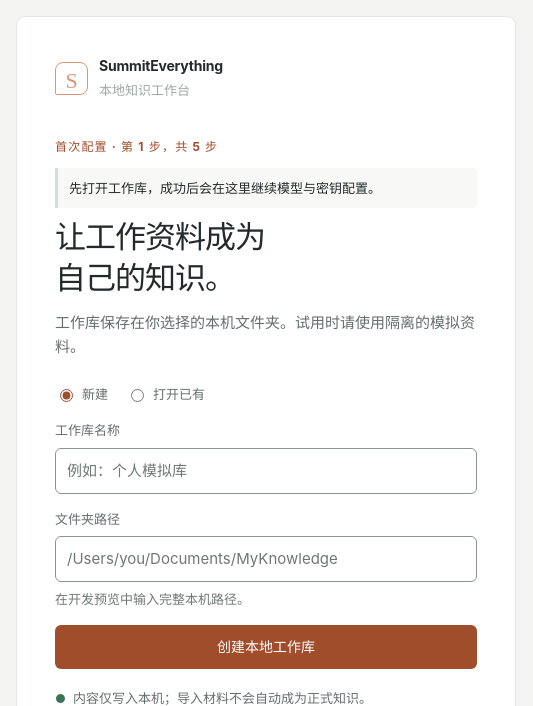
Test: keeps the setup form visible and explains a rejected workspace
This screenshot has width=533, height=706.
Type "模拟工作库" into the field labelled "工作库名称" at (266, 471), box x1=55 y1=448 x2=477 y2=494
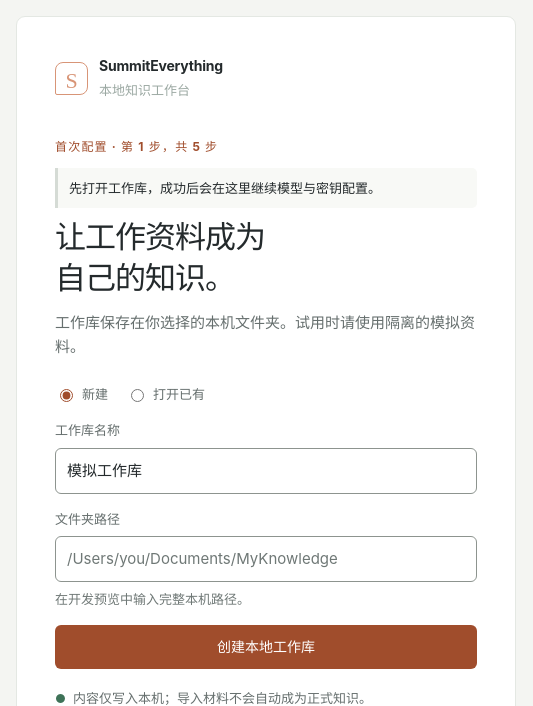
Type "/tmp/existing" into the field labelled "文件夹路径" at (266, 560), box x1=55 y1=536 x2=477 y2=582
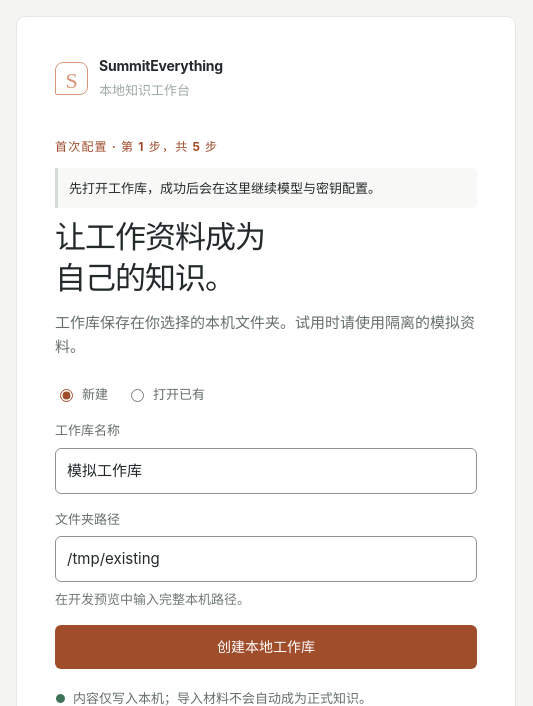
Click the button "创建本地工作库" at (266, 647), box x1=55 y1=625 x2=477 y2=669
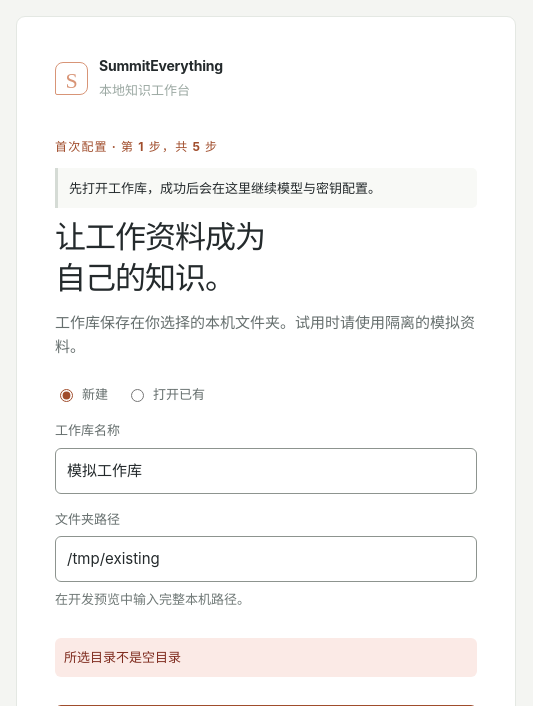
Now the message reads "所选目录不是空目录", box x1=64 y1=649 x2=181 y2=665
